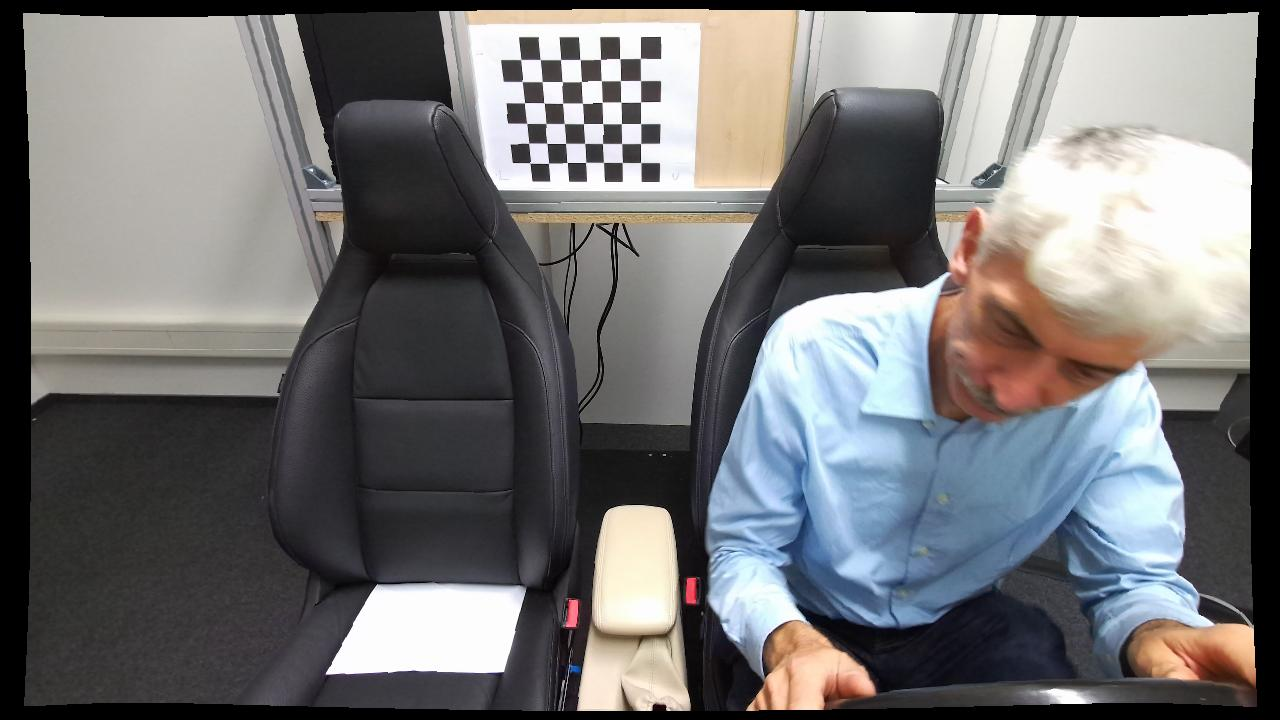Distracted: (708, 138, 1252, 708)
